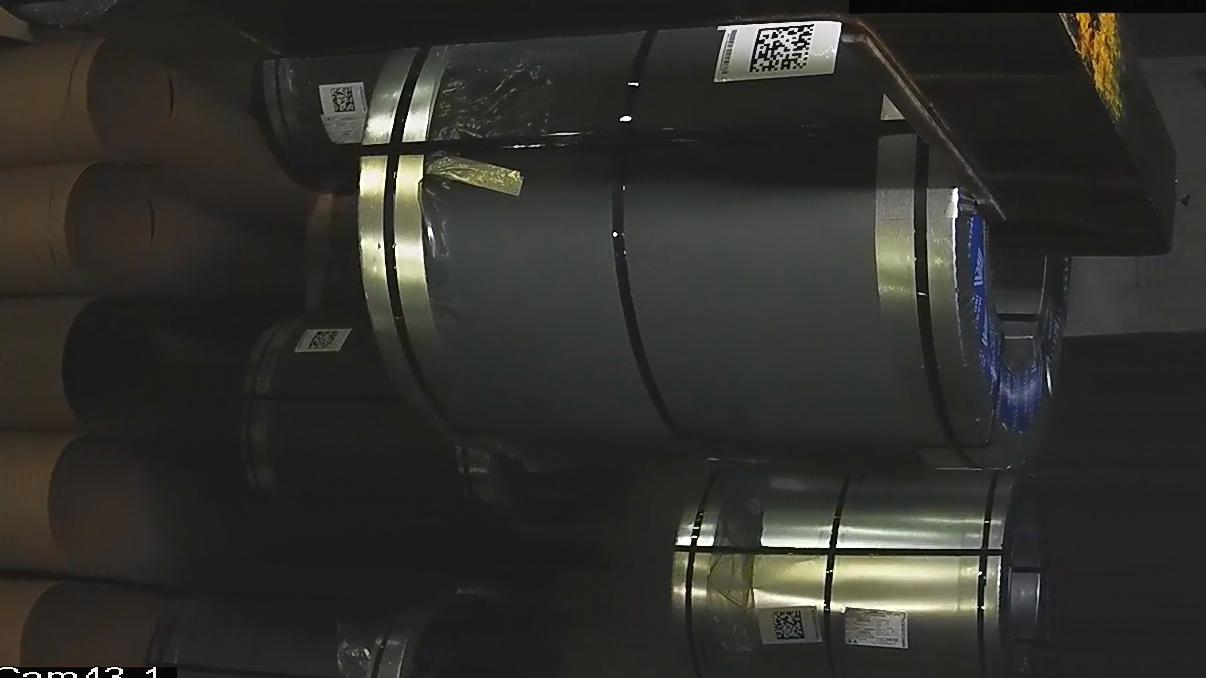data matrix: (748, 22, 817, 79), (770, 608, 809, 644), (329, 85, 359, 117), (307, 329, 341, 354)
